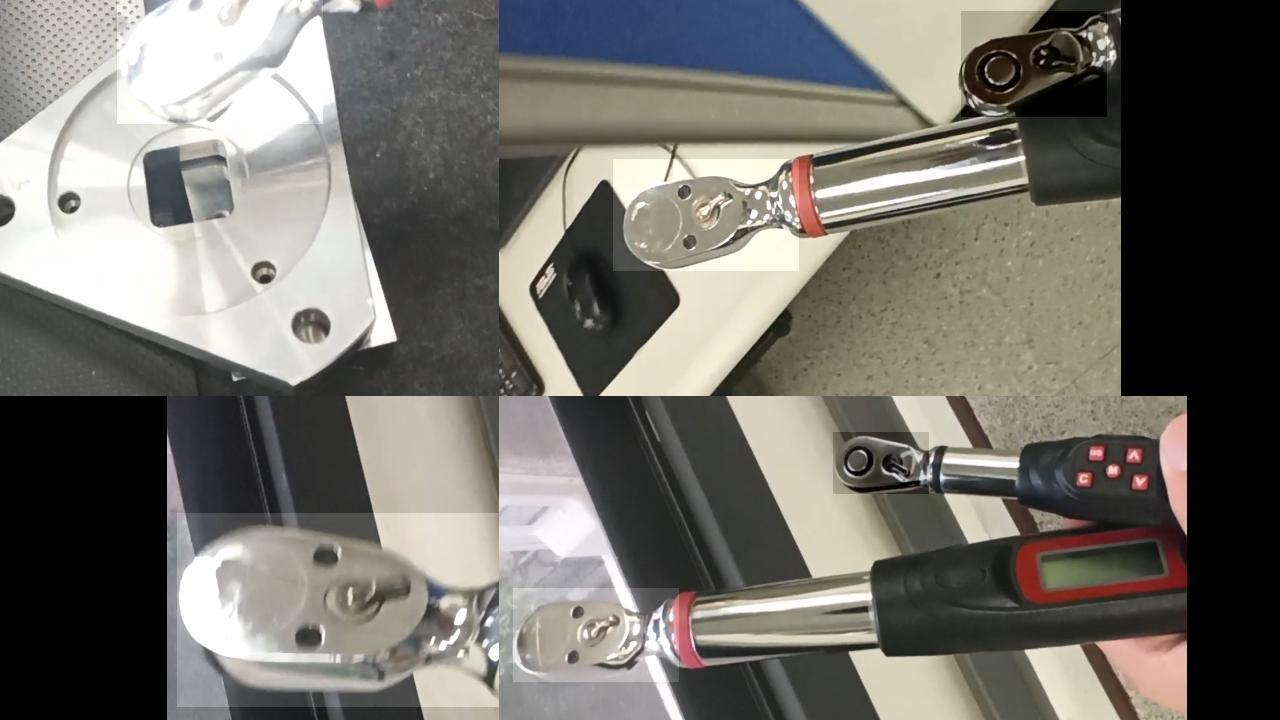Tool: (175, 513, 493, 709), (120, 0, 342, 129), (616, 160, 803, 272), (514, 589, 683, 684), (962, 12, 1109, 116), (835, 433, 931, 496)
hole: (286, 306, 334, 344), (1, 188, 25, 232), (55, 188, 86, 218), (249, 258, 280, 287)
